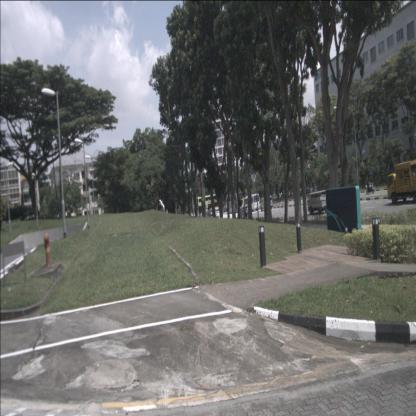vehicle-bus-rigid: (195, 194, 221, 216), (224, 192, 245, 213), (244, 194, 260, 210)
vehicle-car: (259, 196, 273, 211), (239, 206, 250, 217), (206, 209, 214, 217), (213, 208, 220, 217)
vehicle-motorcycle: (366, 179, 374, 194)
vehicle-truck: (387, 160, 416, 204), (307, 189, 327, 215)
